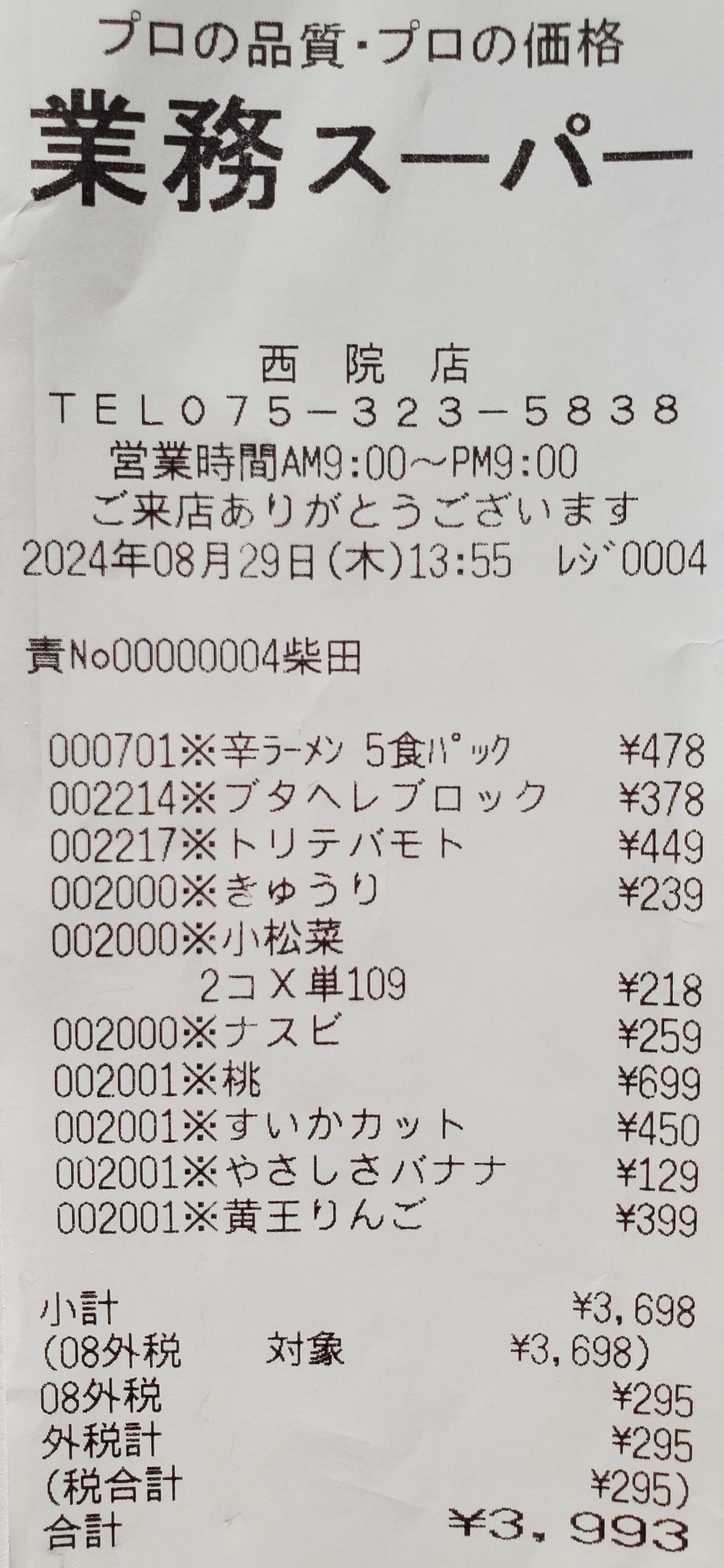TEL: (173, 387, 693, 437)
date: (12, 531, 323, 591)
total: (489, 1502, 689, 1567)
